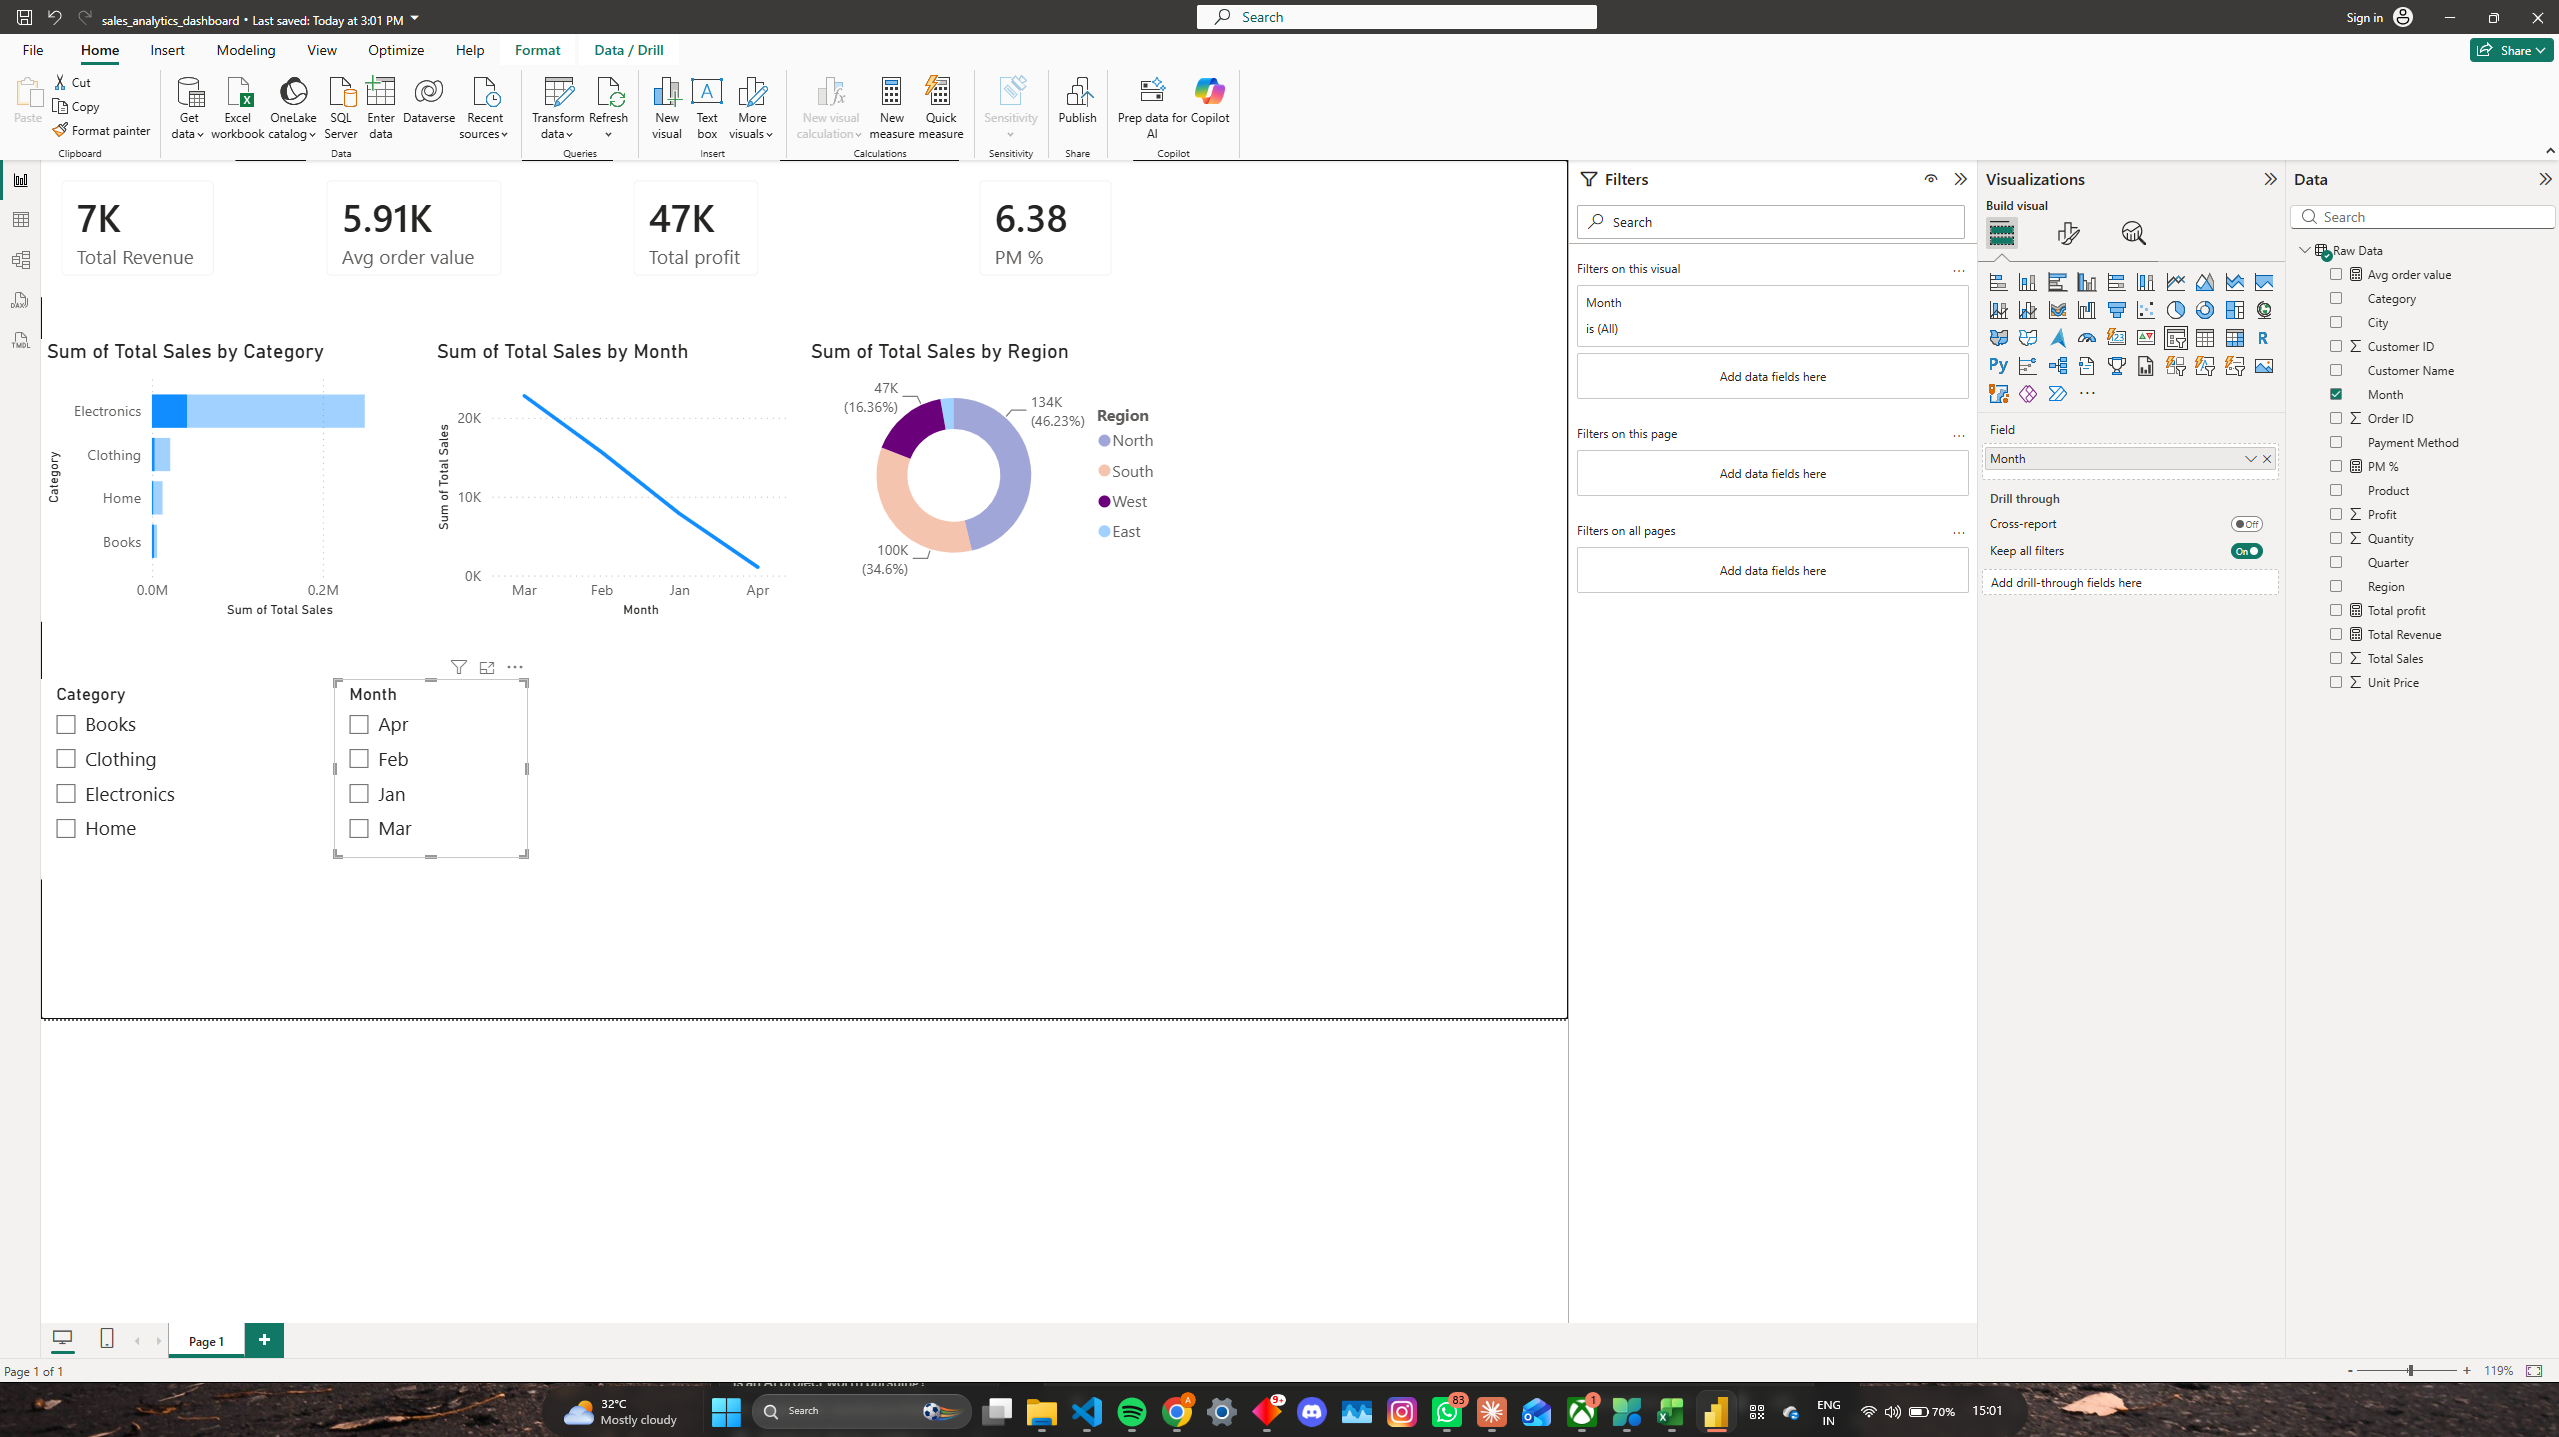

The page's visual inventory and layout, read from the dashboard file:
{"tool":"powerbi","page":{"name":"Page 1","canvas":[1280,720],"ordinal":0},"visuals":[{"type":"cardVisual","fields":{"Data":["Raw Data.Total Revenue"]},"box":[0,0,162.6,114.8],"z":1},{"type":"cardVisual","fields":{"Data":["Raw Data.Avg order value"]},"box":[222.1,0,181.1,114.8],"z":2},{"type":"cardVisual","fields":{"Data":["Raw Data.Total profit"]},"box":[479.5,0,140,114.8],"z":3},{"type":"cardVisual","fields":{"Data":["Raw Data.PM %"]},"box":[769.5,0,145.9,114.8],"z":4},{"type":"clusteredBarChart","fields":{"Category":["Raw Data.Category"],"Y":["Sum(Raw Data.Total Sales)"]},"box":[0,150,326.9,237.2],"z":5},{"type":"lineChart","fields":{"Category":["Raw Data.Month"],"Y":["Sum(Raw Data.Total Sales)"]},"box":[326.9,150,305.1,237.2],"z":6},{"type":"donutChart","fields":{"Category":["Raw Data.Region"],"Y":["Sum(Raw Data.Total Sales)"]},"box":[640.4,150,313.5,209.6],"z":7},{"type":"slicer","fields":{"Values":["Raw Data.Category"]},"box":[0,435,175.2,168.5],"z":8},{"type":"slicer","fields":{"Values":["Raw Data.Month"]},"box":[245.6,435,162.6,150],"z":9}]}

Visuals, with their boxes on the page's 1280x720 design canvas (x1, y1, x2, y2). These are canvas units, not pixel positions in the 2559x1437 screenshot, which may show the page scaled, cropped or inside an application window:
cardVisual - Raw Data.Total Revenue: bbox(0, 0, 163, 115)
cardVisual - Raw Data.Avg order value: bbox(222, 0, 403, 115)
cardVisual - Raw Data.Total profit: bbox(480, 0, 620, 115)
cardVisual - Raw Data.PM %: bbox(770, 0, 915, 115)
clusteredBarChart - Raw Data.Category x Sum(Raw Data.Total Sales): bbox(0, 150, 327, 387)
lineChart - Raw Data.Month x Sum(Raw Data.Total Sales): bbox(327, 150, 632, 387)
donutChart - Raw Data.Region x Sum(Raw Data.Total Sales): bbox(640, 150, 954, 360)
slicer - Raw Data.Category: bbox(0, 435, 175, 604)
slicer - Raw Data.Month: bbox(246, 435, 408, 585)
